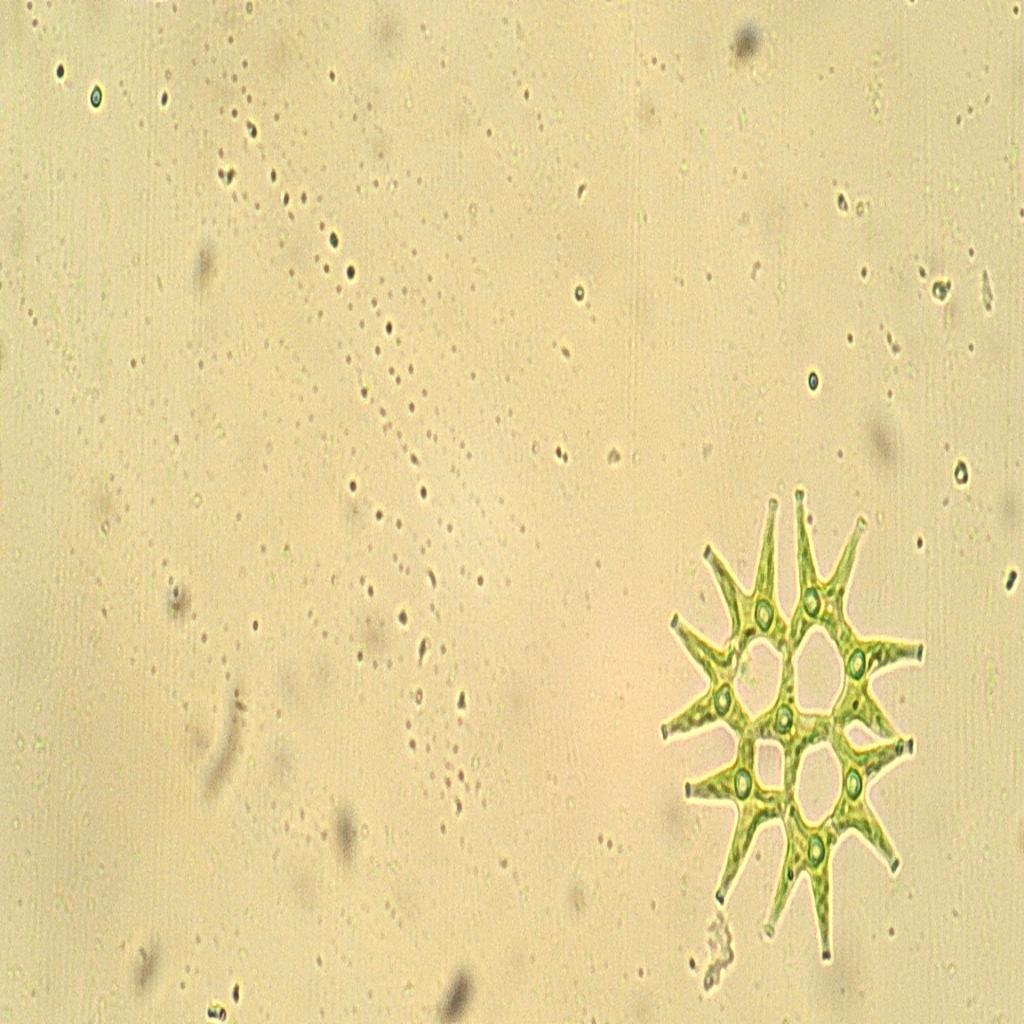Pediastrum_CTH: (652, 450, 927, 977)
